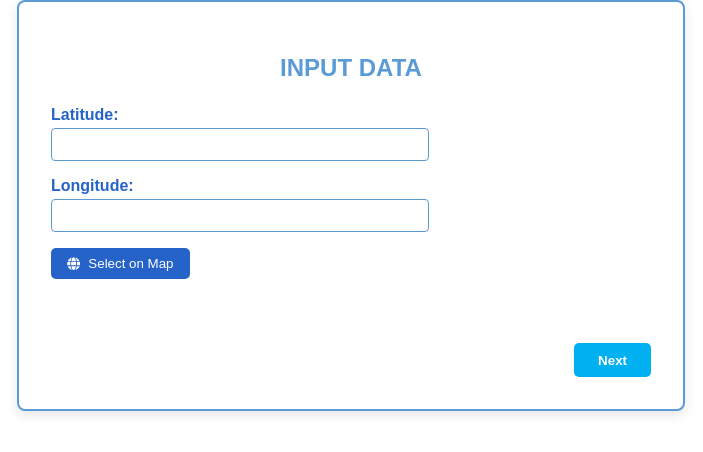
Test: rejects coordinates outside Colombia before advancing
In the field named "latitude" below "Latitude:": {"x": 240, "y": 144} x1=51 y1=128 x2=429 y2=161, type "20"
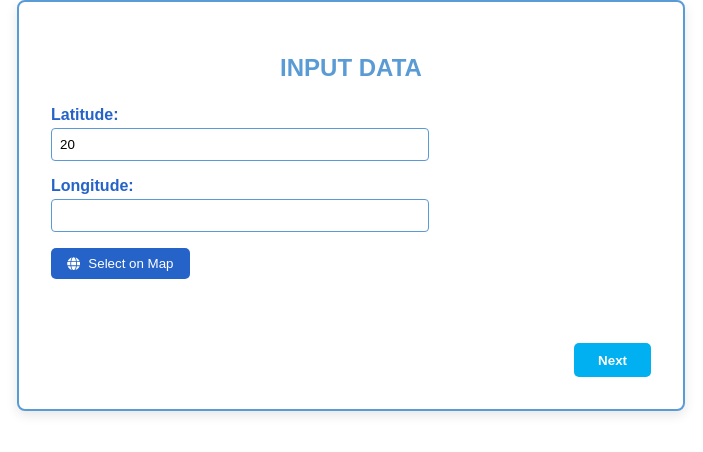
In the field named "longitude" below "Longitude:": {"x": 240, "y": 215} x1=51 y1=199 x2=429 y2=232, type "-74.0817"
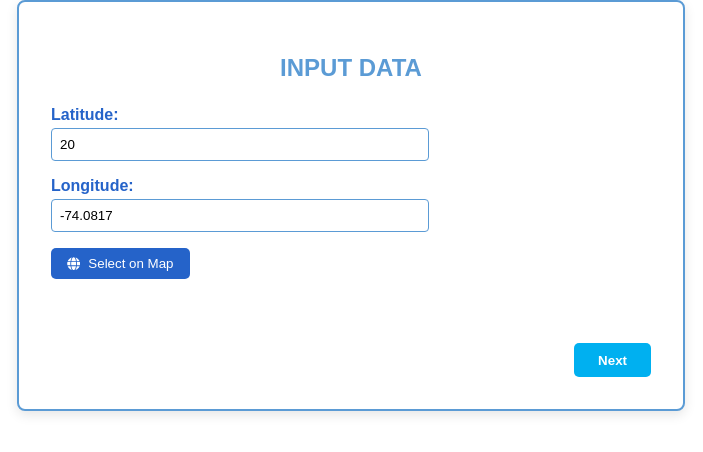
Click the button "Next": {"x": 613, "y": 360} x1=574 y1=343 x2=651 y2=377
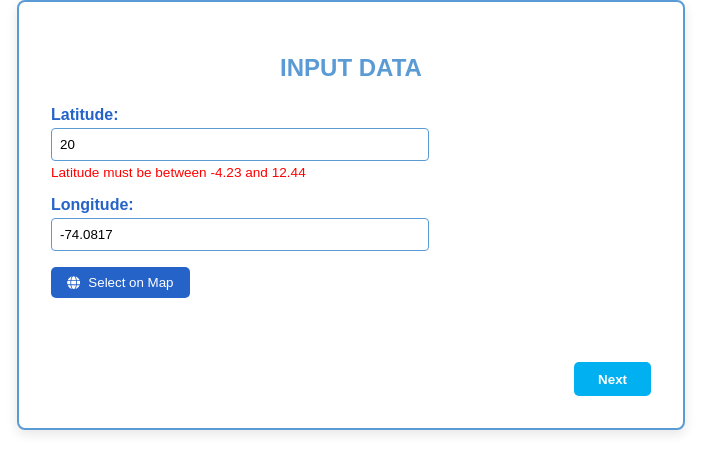
Now the text "Latitude must be between -4.23 and 12.44" is shown, box x1=51 y1=165 x2=306 y2=180
